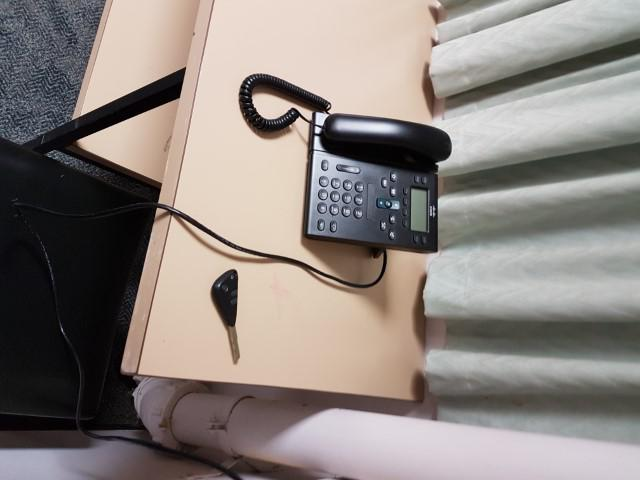key: (207, 266, 249, 366)
